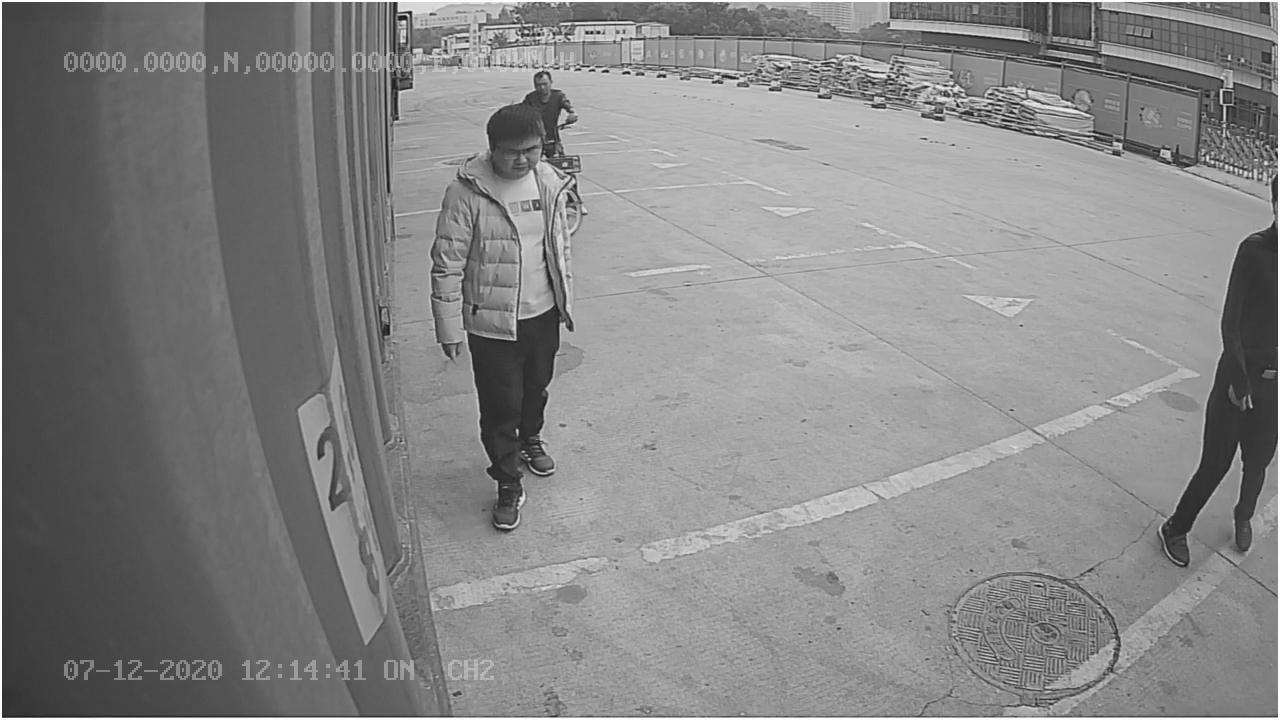person: (427, 102, 573, 526)
